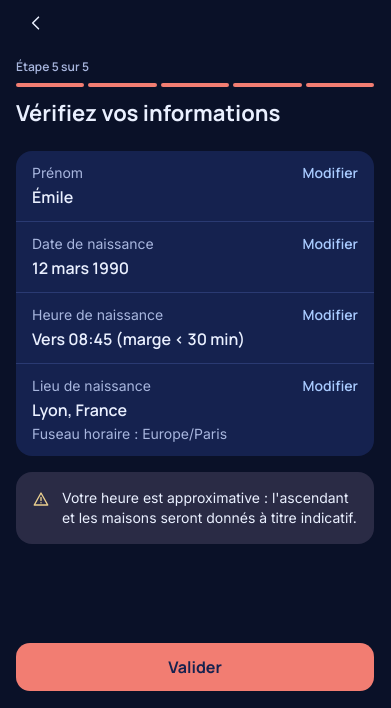
Test case: OnboardingFlow › resumes a saved draft and lets the user edit a field from the summary
The image size is (391, 708).
expect the heading "Vérifiez vos informations" is shown: met, box [16,98,280,128]
expect the text with id "summary-step__value--first-name" reads "Émile": met, box [32,186,73,208]
What coordinates should you click on to do the following:
click the button named "Modifier : Heure de naissance"
I would click on:
 (330, 315)
Its box is [302,305,358,325].
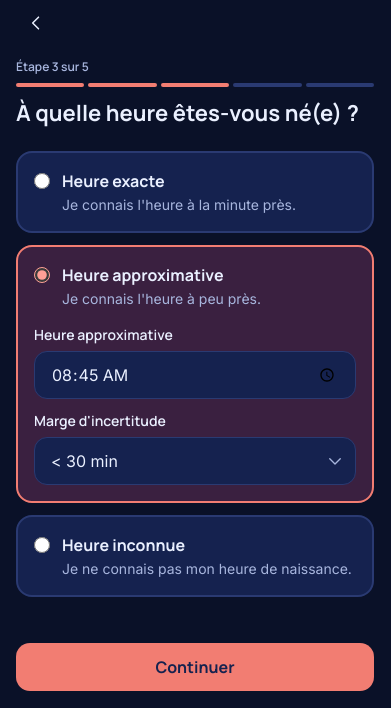
expect the heading "À quelle heure êtes-vous né(e) ?" is shown: met, box [16,99,374,127]
expect the radio button labelled "Heure approximative Je connais l'heure à peu près." is checked: met, box [34,267,50,283]
expect the time field labelled "Heure approximative" holds "08:45": met, box [34,351,356,399]
